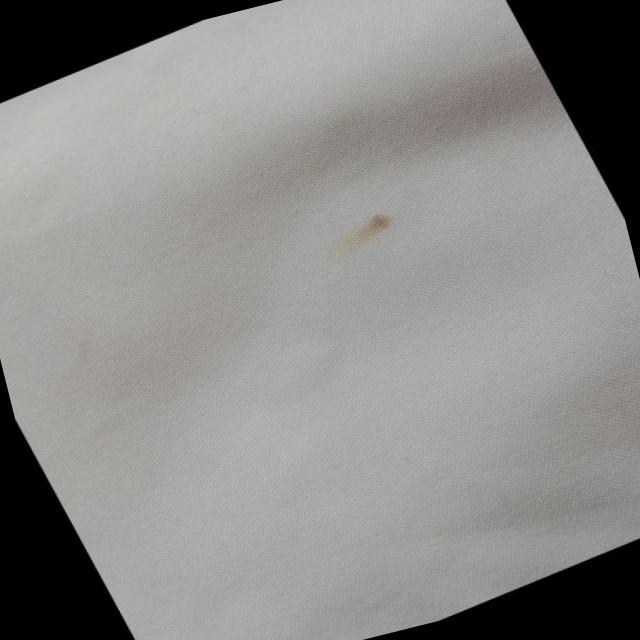stain: (303, 186, 417, 270)
